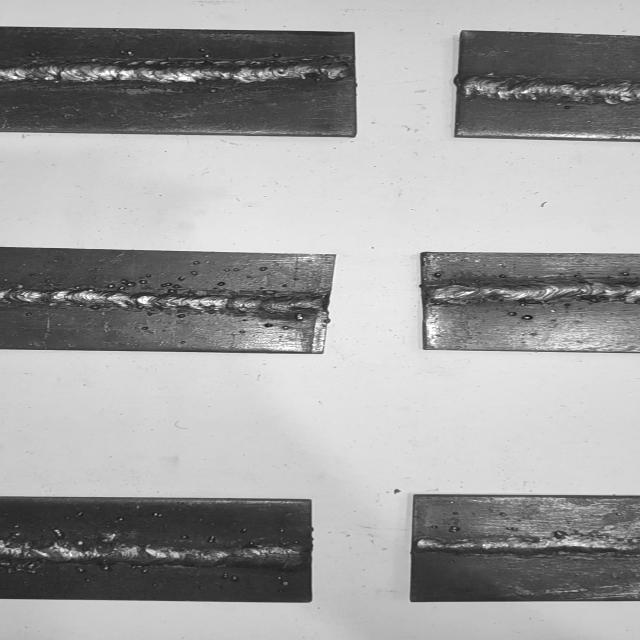Good Weld: (0, 287, 325, 319), (0, 59, 355, 83), (0, 544, 304, 568), (457, 72, 640, 106), (424, 278, 640, 306), (417, 535, 640, 556)
